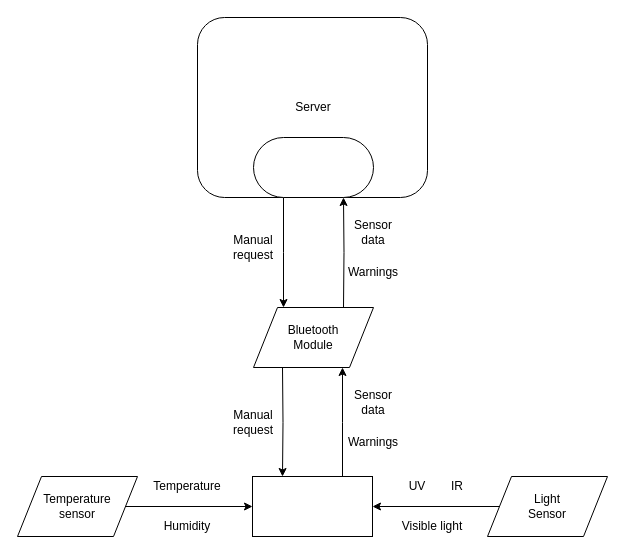
Image size: 625x554. Some labels were removed from this diagram. Each missing label, with the centre of its shape:
"Arduino" goes at point 312,506.
"pyserial" goes at point 313,167.
